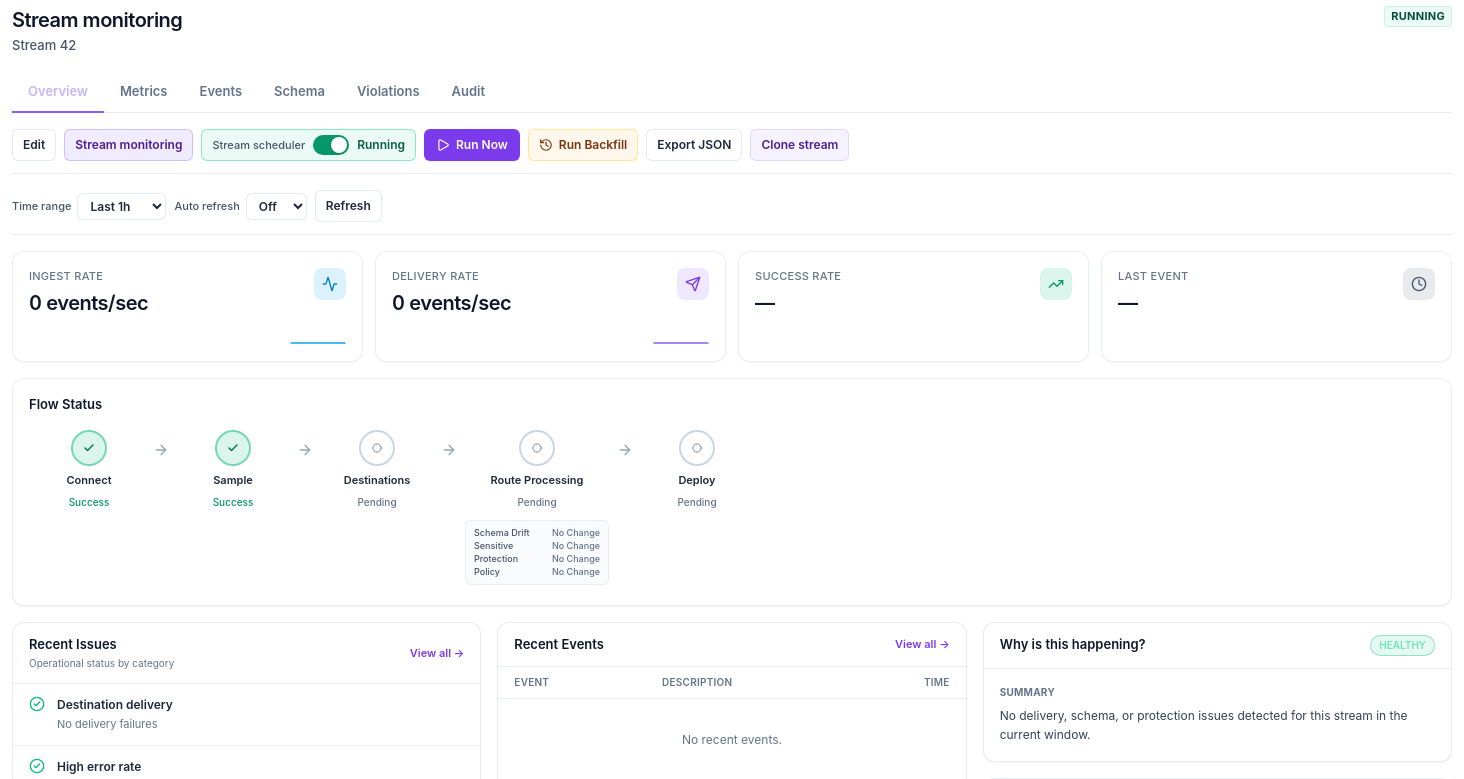
Test: StreamRuntimeDetailPage routes section › shows empty-state text when stream has no routes
Click the tab with test id "stream-detail-tab-audit" at (468, 92), box [436,72,501,113]
(page scrolled)
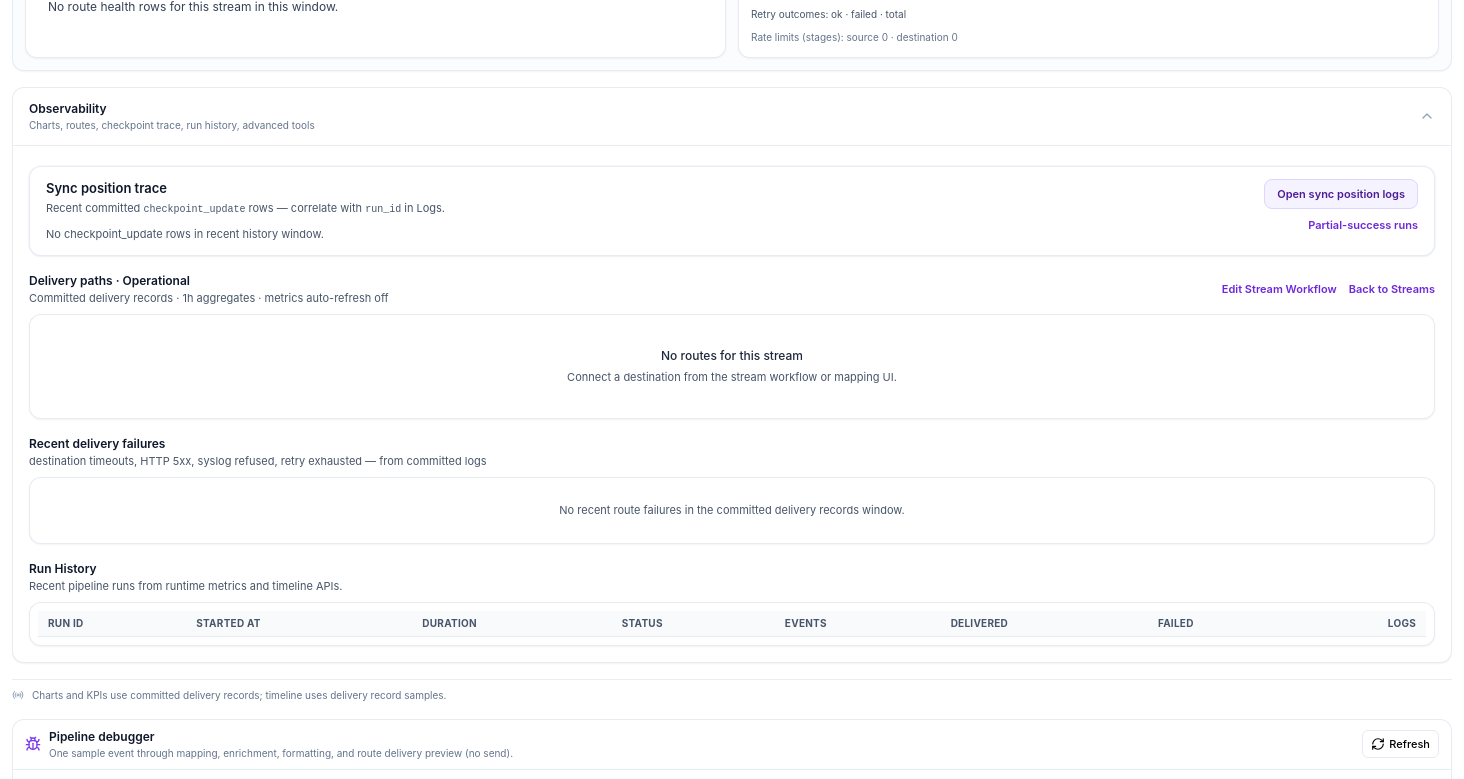
Expected: the text "No routes for this stream" is shown, [661,348,803,363]
Expected: the text "Connect a destination from the stream workflow" is shown, [567,370,897,384]
